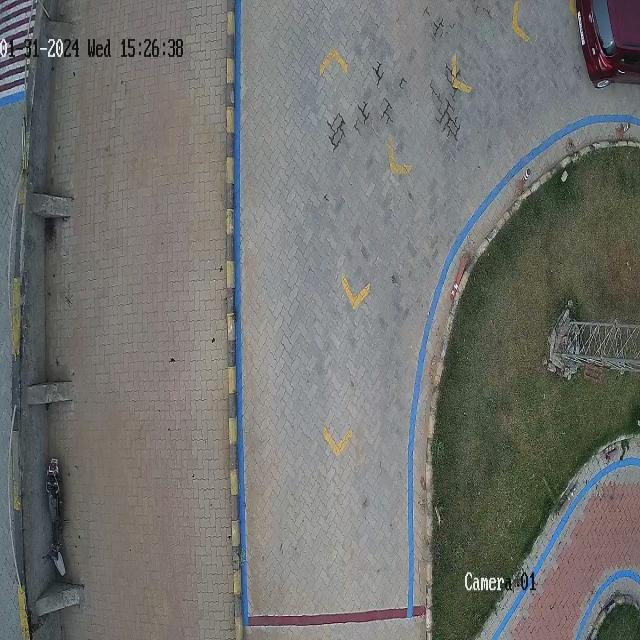car: (575, 0, 640, 85)
